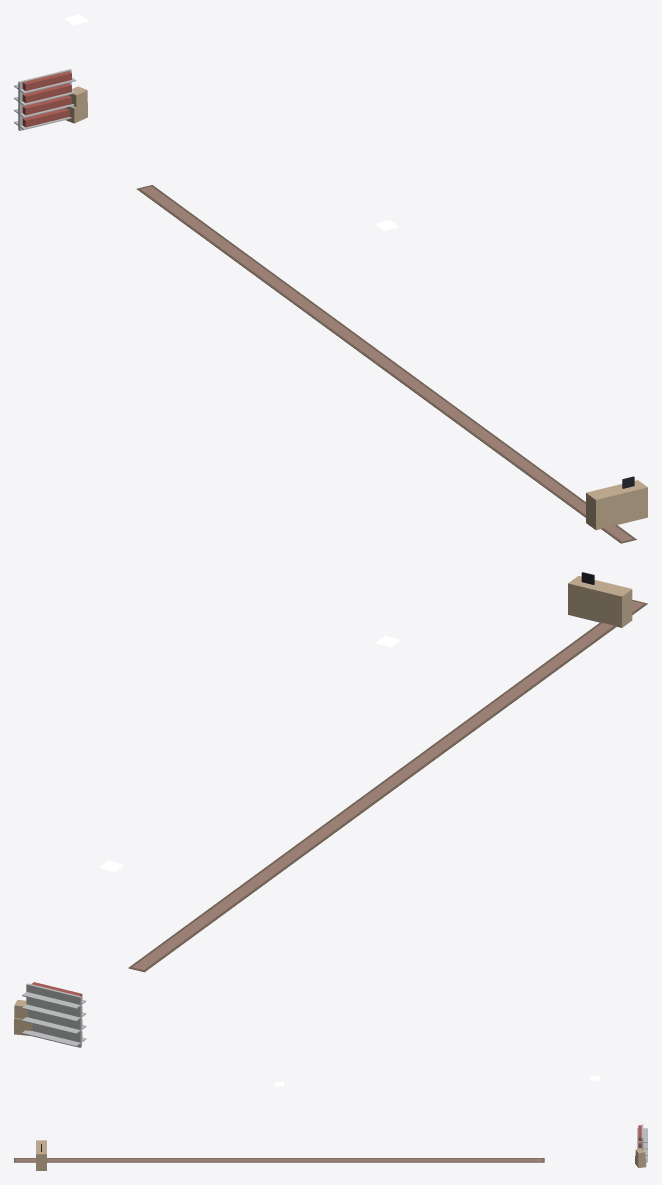
File: fine-s0.glb
The picture shows the model from 3 angles, top to bottom: view 1: azimuth 30°, elevation 25°; view 2: azimuth 150°, elevation 25°; view 3: azimuth 270°, elevation 25°; orthographic projection. The views are drawn at different scales.
Parts seen in each view (by area): view 1: soft-s0, shelving.000, shop-counter.000; view 2: soft-s0, shelving.000, shop-counter.000; view 3: soft-s0, shop-counter.000, shelving.000, cardboard-box.000.
Boxes of the visible parts, x1,y1,x2,y2 form: soft-s0: (137, 185, 636, 543); shelving.000: (14, 69, 75, 130); shop-counter.000: (586, 476, 647, 530); soft-s0: (128, 600, 647, 972); shelving.000: (22, 982, 86, 1047); shop-counter.000: (568, 572, 632, 627); soft-s0: (14, 1158, 544, 1162); shop-counter.000: (36, 1140, 46, 1170); shelving.000: (637, 1124, 647, 1162); cardboard-box.000: (635, 1149, 646, 1168).
Size of the model in its own units: 2.6 by 4.62 by 34.67.
